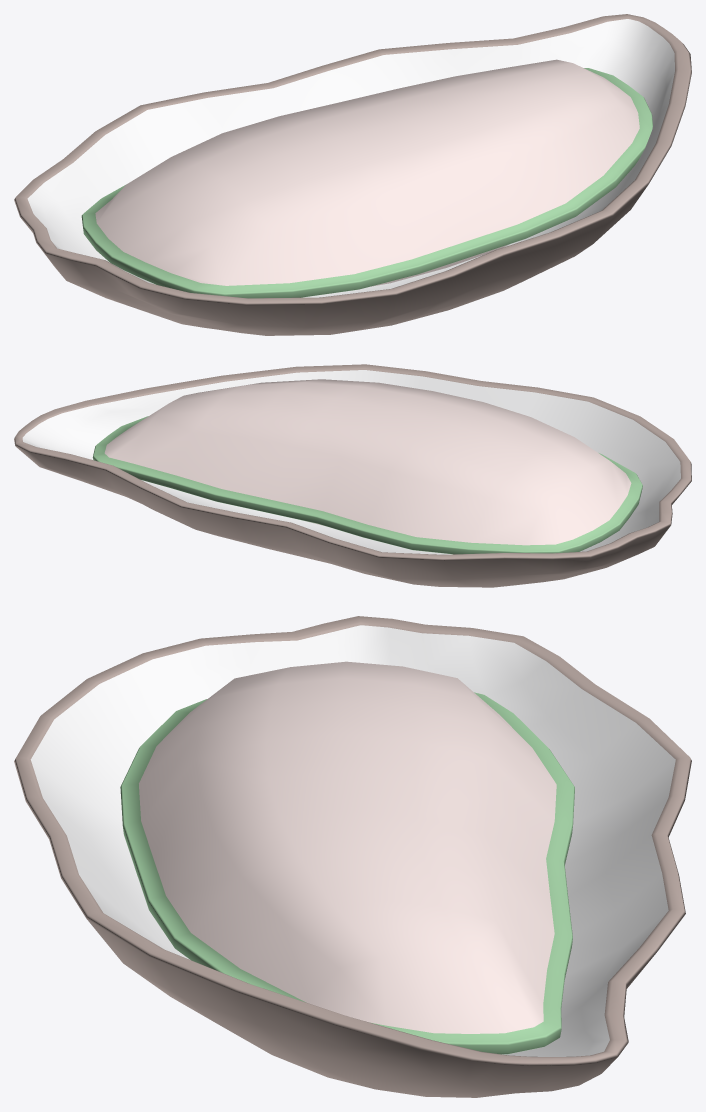
The model's file is Oysters_Open_2.fbx.
The picture shows the model from 3 angles, top to bottom: view 1: azimuth 30°, elevation 25°; view 2: azimuth 150°, elevation 25°; view 3: azimuth 270°, elevation 25°; orthographic projection. The views are drawn at different scales.
Parts seen in each view (by area): view 1: Oysters_Open_2; view 2: Oysters_Open_2; view 3: Oysters_Open_2.
Part boxes in pixels (x1,y1,x2,y2): Oysters_Open_2: (14, 14, 691, 335); Oysters_Open_2: (14, 364, 691, 587); Oysters_Open_2: (14, 616, 691, 1097).
Bounding box in the file's own units: 8.48 × 2.03 × 5.43.
